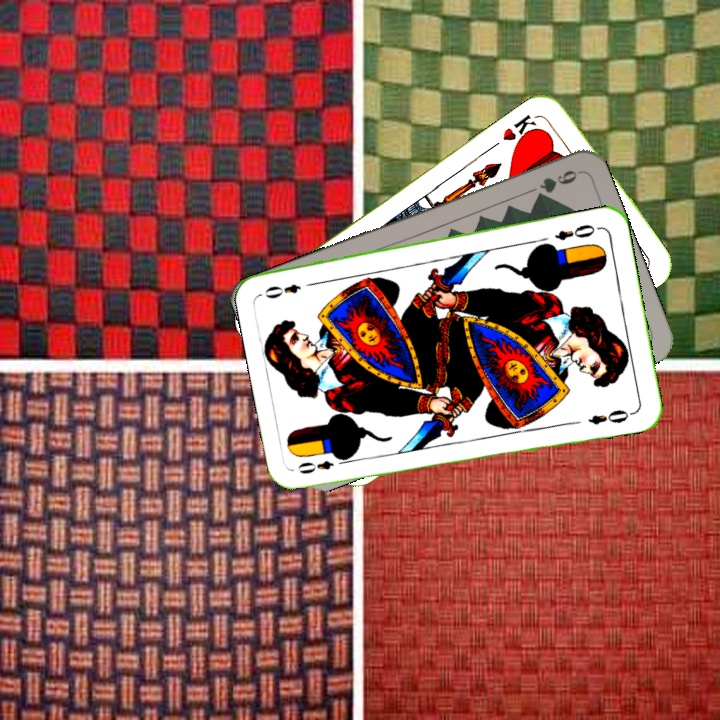EO: (293, 453, 351, 477), (551, 220, 603, 243)
G9: (535, 166, 582, 196)
HK: (498, 110, 544, 148)
